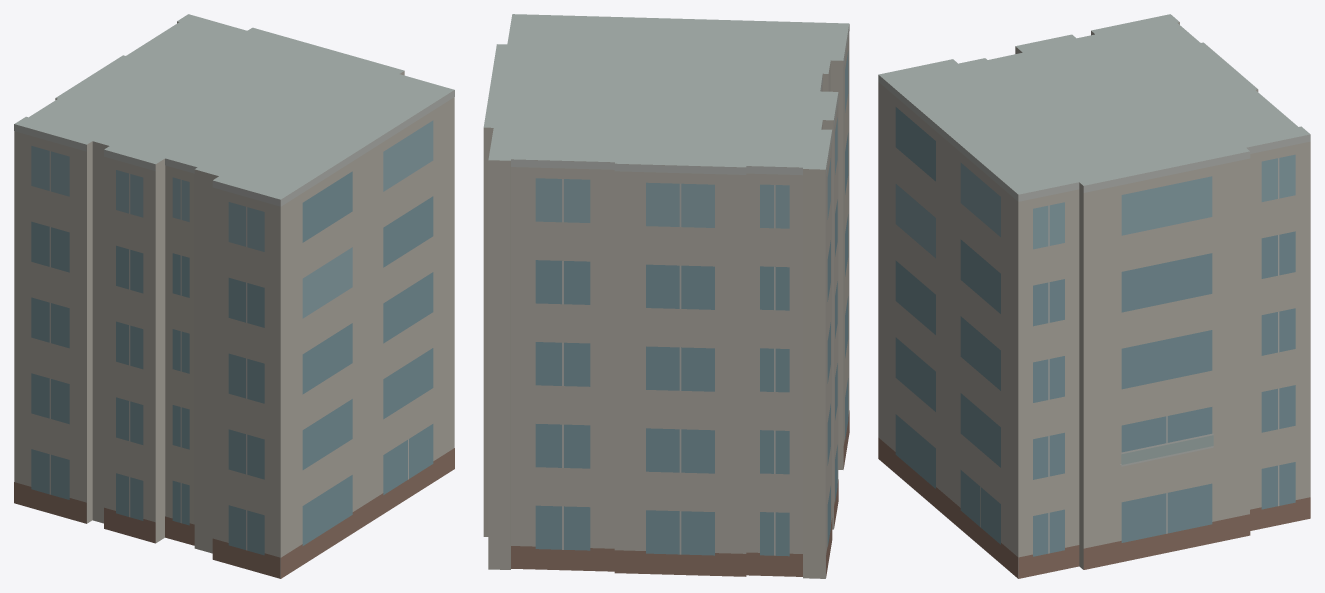
File: survey-upis-32836156.glb
3 renders of one model, left to right at view 1: azimuth 30°, elevation 25°; view 2: azimuth 150°, elevation 25°; view 3: azimuth 270°, elevation 25°, orthographic. The views are drawn at different scales.
Parts seen in each view (by area): view 1: survey-upis-32836156.tmp; view 2: survey-upis-32836156.tmp; view 3: survey-upis-32836156.tmp.
Boxes of the visible parts, x1=… form: survey-upis-32836156.tmp: x1=14, y1=14, x2=454, y2=578; survey-upis-32836156.tmp: x1=483, y1=14, x2=849, y2=578; survey-upis-32836156.tmp: x1=878, y1=14, x2=1310, y2=578.
Size of the model in its own units: 13.22 by 13.1 by 13.37.
